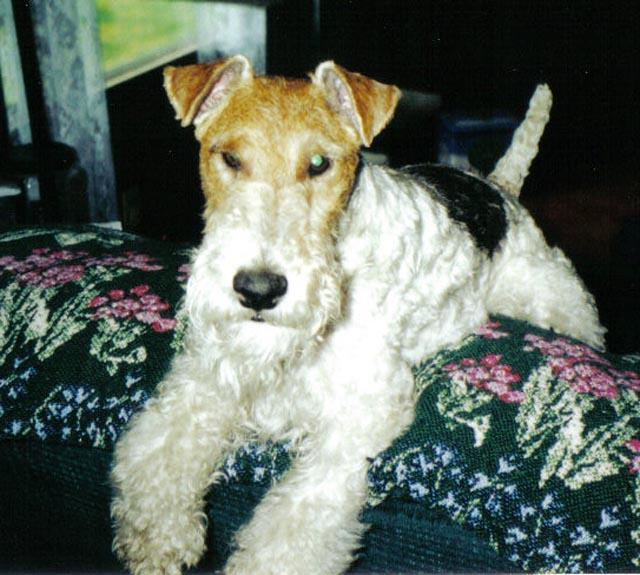wire-haired_fox_terrier: (107, 53, 606, 572)
